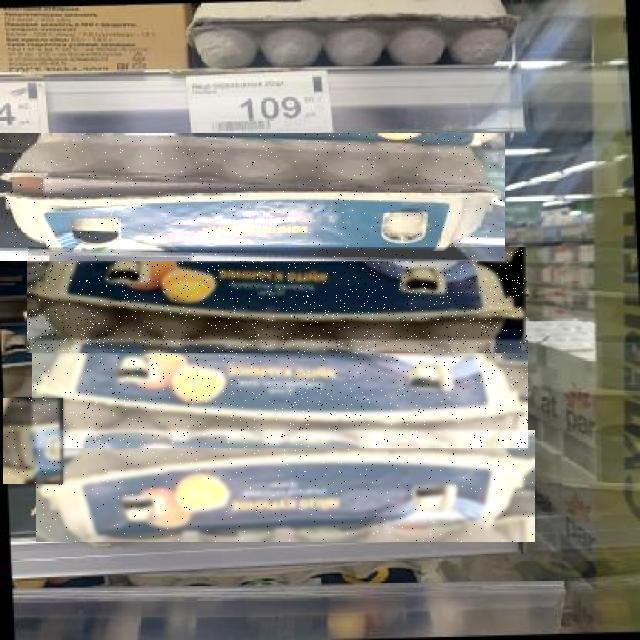Eggs: (0, 133, 505, 261), (36, 430, 535, 542), (32, 340, 528, 448), (28, 247, 528, 353), (3, 399, 63, 485)
